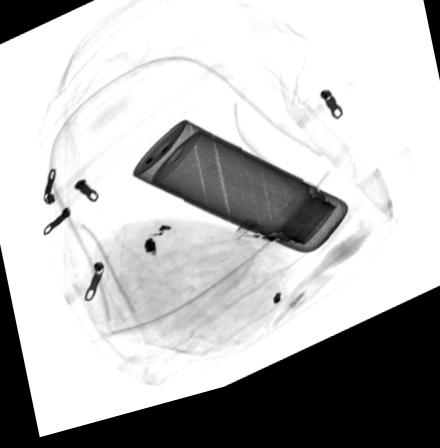Lighter: (234, 230, 294, 257)
